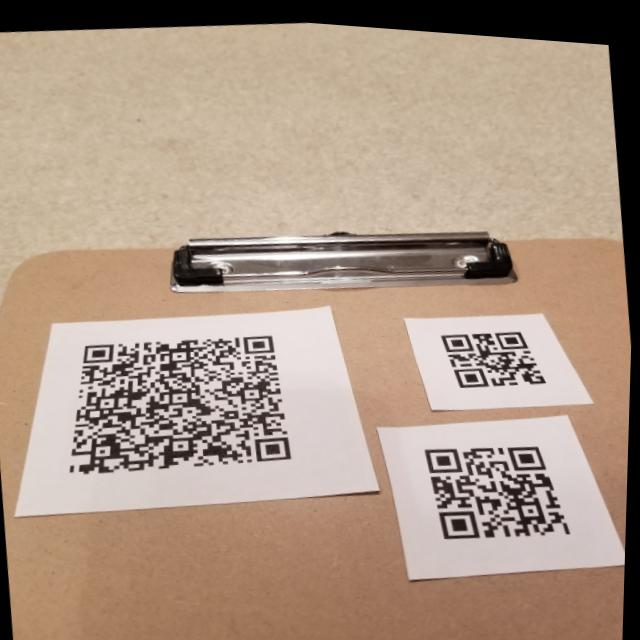QR_CODE: (49, 306, 315, 498), (413, 417, 588, 556), (432, 301, 562, 398)
